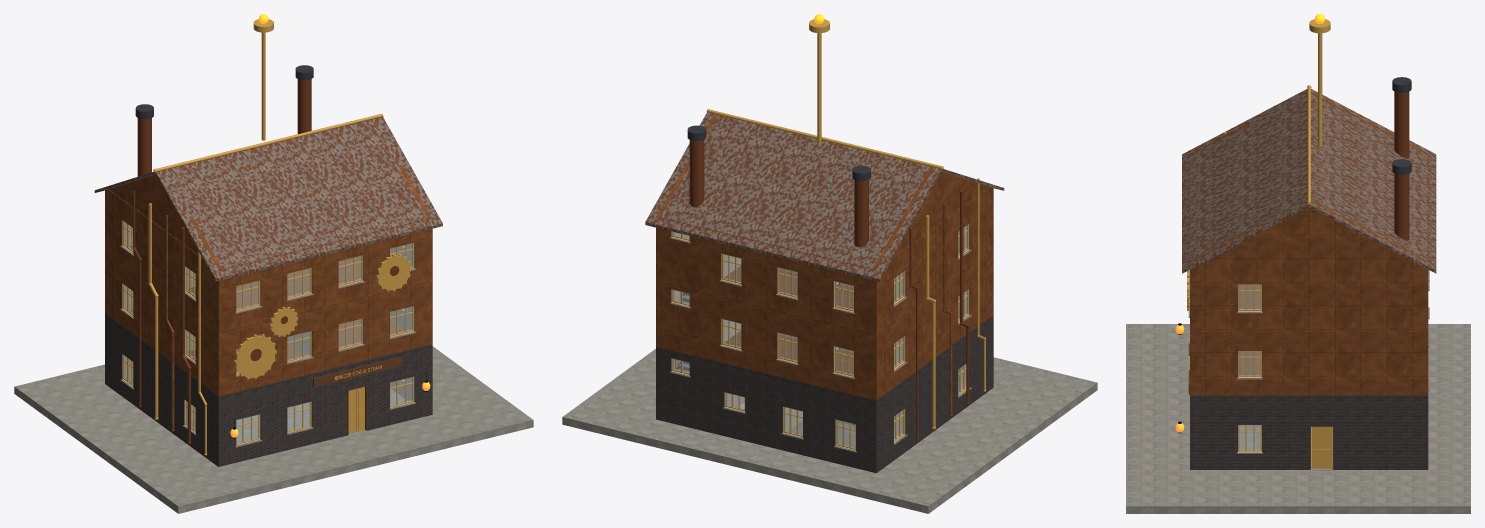
File: b_steampunk_works.gltf
3 renders of one model, left to right at view 1: azimuth 30°, elevation 25°; view 2: azimuth 150°, elevation 25°; view 3: azimuth 270°, elevation 25°, orthographic. The views are drawn at different scales.
Parts seen in each view (by area): view 1: S_steampunk_works; view 2: S_steampunk_works; view 3: S_steampunk_works, D_steampunk_works_F1_E1_Door0.
Boxes of the visible parts, box(x1,y1,x2,y2) form: S_steampunk_works: box(14, 14, 533, 513); S_steampunk_works: box(562, 14, 1097, 513); S_steampunk_works: box(1126, 14, 1470, 513); D_steampunk_works_F1_E1_Door0: box(1311, 427, 1332, 468).
Size of the model in its own units: 20 by 20.93 by 16.
Materials: 22 (13 with a texture image).
